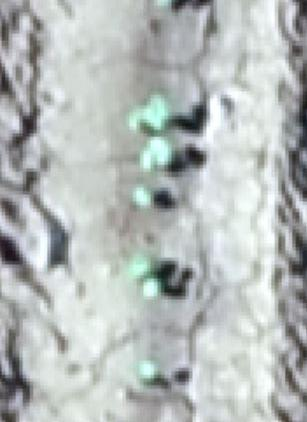cotton: (132, 96, 168, 129), (134, 260, 160, 298), (142, 139, 171, 167), (140, 360, 160, 383), (131, 186, 151, 205)
